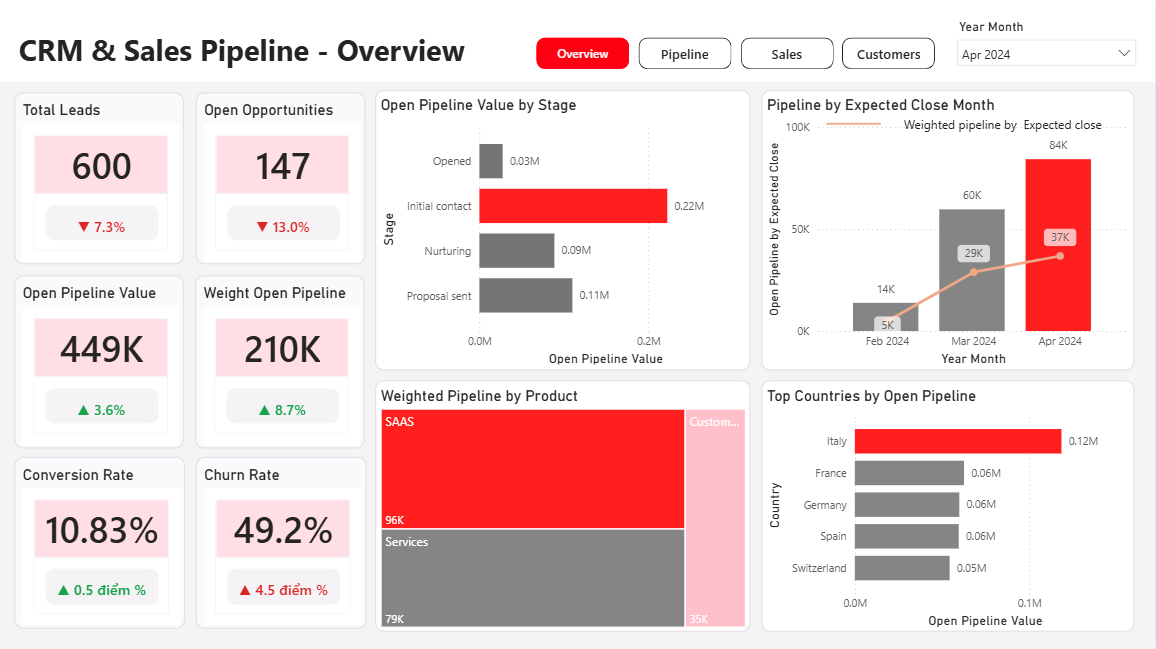

Layout of this report page (visuals, bound fields, positions):
{"tool":"powerbi","page":{"name":"Overview","canvas":[1280,720],"ordinal":0},"visuals":[{"type":"textbox","box":[0,0,1280,90],"z":0},{"type":"cardVisual","title":"Total Leads","fields":{"Data":["Fact_CRM_Pipeline.Total Leads"]},"box":[16,102,188,191.1],"z":0,"group":"g1"},{"type":"group","id":"g1","title":"Group 1","box":[16,102,388.9,191.1],"z":0,"group":"g4"},{"type":"cardVisual","title":"Open Pipeline Value","fields":{"Data":["Fact_CRM_Pipeline.Open Pipeline Value"]},"box":[16,305.3,188.6,191.5],"z":0,"group":"g2"},{"type":"cardVisual","title":"Conversion Rate","fields":{"Data":["Fact_CRM_Pipeline.Customer Conversion Rate"]},"box":[15.7,506.1,189.1,190.8],"z":0,"group":"g3"},{"type":"textbox","title":"CRM & Sales Pipeline Overview","box":[16,27.4,544,61.7],"z":1000},{"type":"cardVisual","title":"Open Opportunities","fields":{"Data":["Fact_CRM_Pipeline.Open Opportunities"]},"box":[216.9,102,188,191.1],"z":1000,"group":"g1"},{"type":"group","id":"g2","title":"Group 1","box":[16,305.1,389.1,192.8],"z":1000,"group":"g4"},{"type":"cardVisual","title":"Weight Open Pipeline","fields":{"Data":["Fact_CRM_Pipeline.Weighted Open Pipeline"]},"box":[216.4,305.1,188.6,191.5],"z":1000,"group":"g2"},{"type":"cardVisual","title":"Churn Rate","fields":{"Data":["Fact_CRM_Pipeline.Churn Rate"]},"box":[216.6,505.9,189.1,190.8],"z":1000,"group":"g3"},{"type":"pageNavigator","box":[593.6,41.6,444.3,35.7],"z":2000},{"type":"group","id":"g3","title":"Group 1","box":[15.7,505.9,390,192.1],"z":2000,"group":"g4"},{"type":"slicer","fields":{"Values":["DimDate.Year Month"]},"box":[1049.6,16,219.2,68.8],"z":3000},{"type":"clusteredBarChart","title":"Open Pipeline Value by Stage","fields":{"Category":["DimStage.Stage"],"Y":["Fact_CRM_Pipeline.Open Pipeline Value"]},"box":[415,100,415.7,310],"z":4000},{"type":"lineClusteredColumnComboChart","title":"Pipeline by Expected Close Month","fields":{"Category":["AxisMonth.Year Month"],"Y":["Fact_CRM_Pipeline.Open Pipeline by Expected Close - Visual 2"],"Y2":["Fact_CRM_Pipeline.Weighted Pipeline by Expected Close - Visual 2"]},"box":[842.9,100,412.9,310],"z":5000},{"type":"treemap","title":"Weighted Pipeline by Product","fields":{"Group":["DimProduct.Product"],"Values":["Fact_CRM_Pipeline.Weighted Open Pipeline"]},"box":[415.7,421.4,415.7,278.6],"z":6000},{"type":"clusteredBarChart","title":"Top Countries by Open Pipeline","fields":{"Category":["DimGeography.Country"],"Y":["Fact_CRM_Pipeline.Open Pipeline Value"]},"box":[842.9,421.4,412.9,278.6],"z":7000},{"type":"group","id":"g4","title":"Group 2","box":[15.7,102,390,596],"z":8000},{"type":"group","id":"g5","title":"Group 2","box":[915.4,123,365.1,29.7],"z":9000},{"type":"shape","box":[915.4,131.3,60.3,11.6],"z":14000,"group":"g5"},{"type":"textbox","box":[995.8,123,284.7,29.7],"z":15000,"group":"g5"}]}

Visuals, with their boxes in screenshot pixels (x1, y1, x2, y2), scaled from the page's 1280x720 canvas onto the 1156x649 screenshot:
textbox: box=[0, 0, 1155, 81]
"Total Leads" cardVisual: box=[14, 92, 184, 264]
"Group 1" group: box=[14, 92, 366, 264]
"Open Pipeline Value" cardVisual: box=[14, 275, 185, 448]
"Conversion Rate" cardVisual: box=[14, 456, 185, 628]
"CRM & Sales Pipeline Overview" textbox: box=[14, 25, 506, 80]
"Open Opportunities" cardVisual: box=[196, 92, 366, 264]
"Group 1" group: box=[14, 275, 366, 449]
"Weight Open Pipeline" cardVisual: box=[195, 275, 366, 448]
"Churn Rate" cardVisual: box=[196, 456, 366, 628]
pageNavigator: box=[536, 37, 937, 70]
"Group 1" group: box=[14, 456, 366, 629]
slicer - DimDate.Year Month: box=[948, 14, 1146, 76]
"Open Pipeline Value by Stage" clusteredBarChart: box=[375, 90, 750, 370]
"Pipeline by Expected Close Month" lineClusteredColumnComboChart: box=[761, 90, 1134, 370]
"Weighted Pipeline by Product" treemap: box=[375, 380, 751, 631]
"Top Countries by Open Pipeline" clusteredBarChart: box=[761, 380, 1134, 631]
"Group 2" group: box=[14, 92, 366, 629]
"Group 2" group: box=[827, 111, 1155, 138]
shape: box=[827, 118, 881, 129]
textbox: box=[899, 111, 1155, 138]
